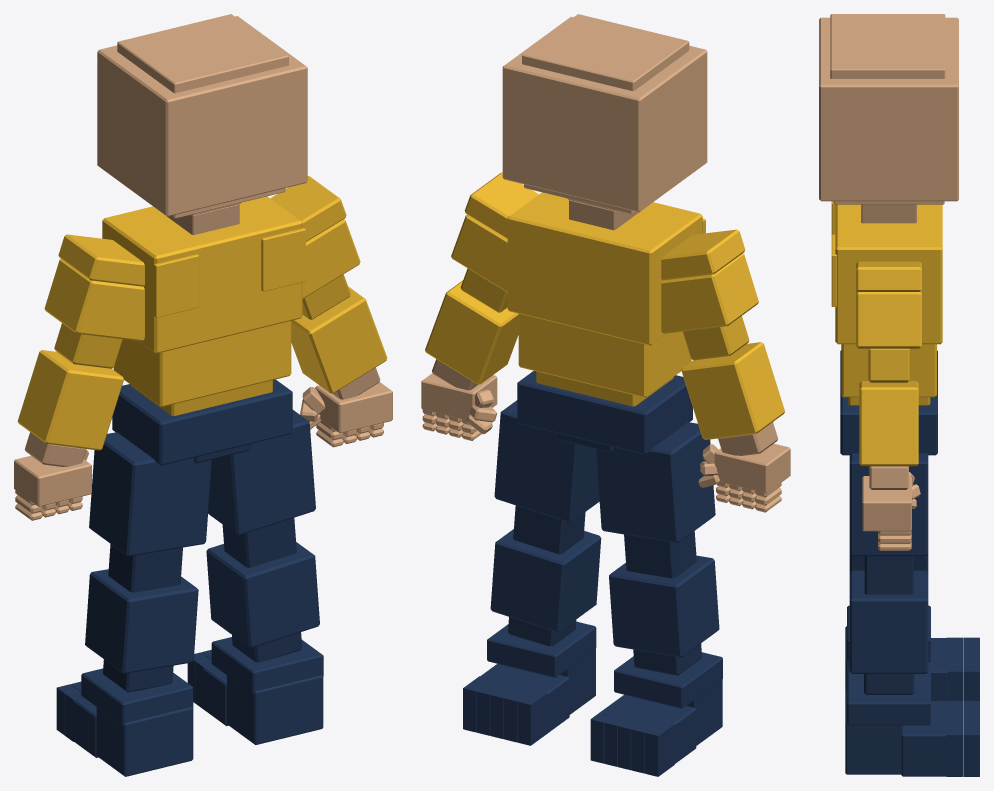
The model's file is npc_pescador.glb.
The picture shows the model from 3 angles, left to right: view 1: azimuth 30°, elevation 25°; view 2: azimuth 150°, elevation 25°; view 3: azimuth 270°, elevation 25°; orthographic projection. The views are drawn at different scales.
Visible parts, largest first — view 1: Geo_Head_Runtime, Geo_Chest_Runtime, Geo_Thigh_L_Runtime, Geo_Abdomen_Runtime, Geo_Shin_L_Runtime, Geo_Pelvis_Runtime, Geo_Shin_R_Runtime, Geo_Thigh_R_Runtime, Geo_HeadTop_Runtime, Geo_ForeArm_L_Runtime, Geo_ForeArm_R_Runtime, Geo_UpperArm_L_Runtime (+23 smaller); view 2: Geo_Head_Runtime, Geo_Chest_Runtime, Geo_Thigh_L_Runtime, Geo_Abdomen_Runtime, Geo_Shin_L_Runtime, Geo_Pelvis_Runtime, Geo_Shin_R_Runtime, Geo_Thigh_R_Runtime, Geo_HeadTop_Runtime, Geo_ForeArm_L_Runtime, Geo_ForeArm_R_Runtime, Geo_UpperArm_L_Runtime (+31 smaller); view 3: Geo_Head_Runtime, Geo_Chest_Runtime, Geo_HeadTop_Runtime, Geo_Shin_R_Runtime, Geo_ForeArm_R_Runtime, Geo_UpperArm_R_Runtime, Geo_Thigh_R_Runtime, Geo_AnkleCuff_R_Runtime, Geo_Heel_R_Runtime, Geo_Foot_R_Runtime, Geo_Abdomen_Runtime, Geo_Pelvis_Runtime (+17 smaller).
Part boxes in pixels (x1,y1,x2,y2): Geo_Head_Runtime: [97, 16, 307, 216]; Geo_Chest_Runtime: [102, 196, 302, 353]; Geo_Thigh_L_Runtime: [89, 432, 211, 556]; Geo_Abdomen_Runtime: [113, 321, 291, 407]; Geo_Shin_L_Runtime: [85, 569, 198, 673]; Geo_Pelvis_Runtime: [112, 379, 292, 465]; Geo_Shin_R_Runtime: [206, 542, 319, 647]; Geo_Thigh_R_Runtime: [208, 410, 315, 535]; Geo_HeadTop_Runtime: [117, 14, 288, 93]; Geo_ForeArm_L_Runtime: [17, 350, 123, 450]; Geo_ForeArm_R_Runtime: [291, 286, 387, 393]; Geo_UpperArm_L_Runtime: [44, 259, 144, 341]; Geo_Head_Runtime: [502, 17, 707, 212]; Geo_Chest_Runtime: [507, 192, 702, 345]; Geo_Thigh_L_Runtime: [596, 422, 715, 543]; Geo_Abdomen_Runtime: [518, 314, 691, 397]; Geo_Shin_L_Runtime: [609, 555, 719, 657]; Geo_Pelvis_Runtime: [517, 371, 692, 454]; Geo_Shin_R_Runtime: [490, 529, 601, 632]; Geo_Thigh_R_Runtime: [494, 400, 599, 522]; Geo_HeadTop_Runtime: [522, 14, 689, 91]; Geo_ForeArm_L_Runtime: [681, 342, 784, 439]; Geo_ForeArm_R_Runtime: [425, 280, 518, 384]; Geo_UpperArm_L_Runtime: [661, 253, 758, 333]; Geo_Head_Runtime: [819, 17, 958, 201]; Geo_Chest_Runtime: [835, 204, 942, 344]; Geo_HeadTop_Runtime: [830, 14, 945, 78]; Geo_Shin_R_Runtime: [849, 570, 928, 673]; Geo_ForeArm_R_Runtime: [859, 381, 918, 466]; Geo_UpperArm_R_Runtime: [856, 290, 921, 348]; Geo_Thigh_R_Runtime: [849, 453, 928, 556]; Geo_AnkleCuff_R_Runtime: [847, 669, 930, 725]; Geo_Heel_R_Runtime: [845, 689, 902, 774]; Geo_Foot_R_Runtime: [901, 701, 946, 776]; Geo_Abdomen_Runtime: [841, 344, 936, 397]; Geo_Pelvis_Runtime: [840, 350, 937, 455].
Size of the model in its own units: 1.07 by 1.98 by 0.4192.
